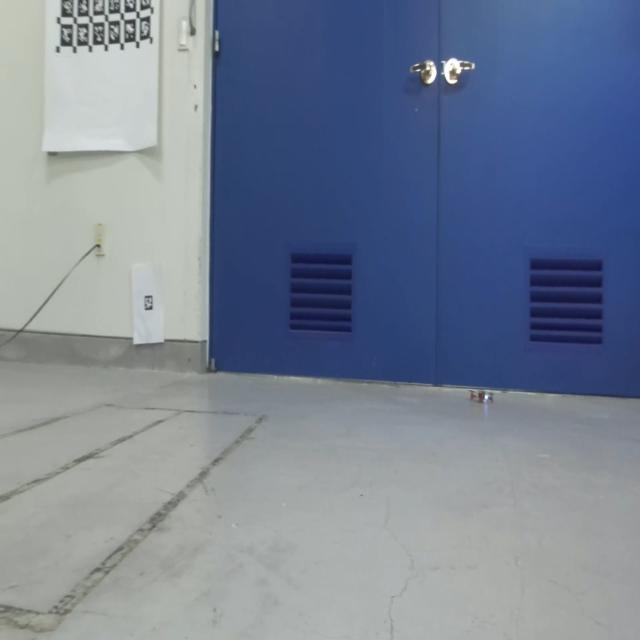crazyflie: (467, 384, 496, 410)
